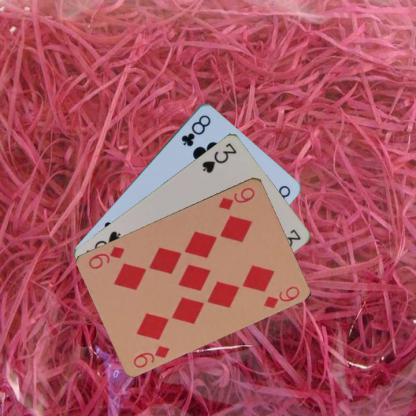3s: (199, 140, 238, 174)
8c: (178, 112, 212, 148)
9d: (216, 184, 257, 211), (131, 342, 171, 368)
